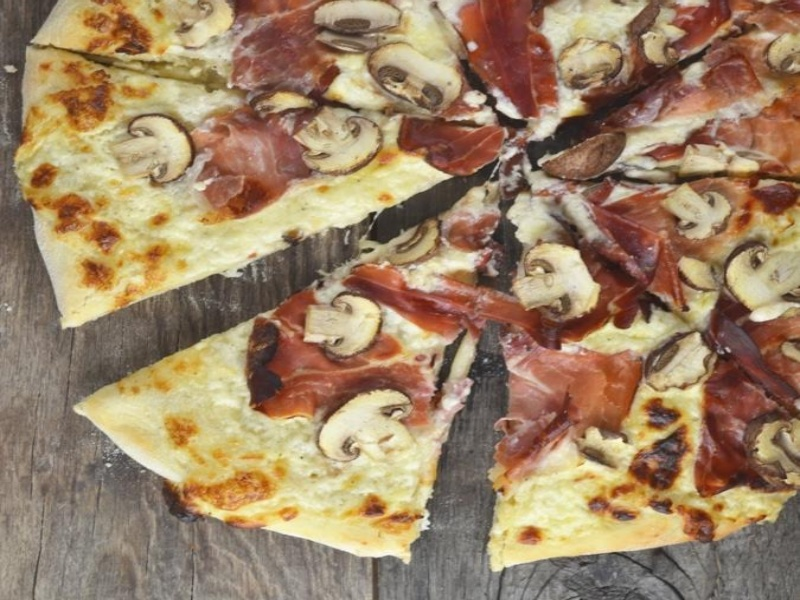champignon: (308, 383, 427, 470), (512, 236, 608, 328), (362, 41, 467, 116), (284, 106, 386, 183), (108, 108, 195, 189), (714, 240, 800, 315), (300, 293, 388, 365), (657, 177, 735, 248)
